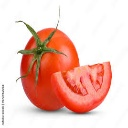tomato: (21, 28, 82, 110), (52, 62, 112, 112)
